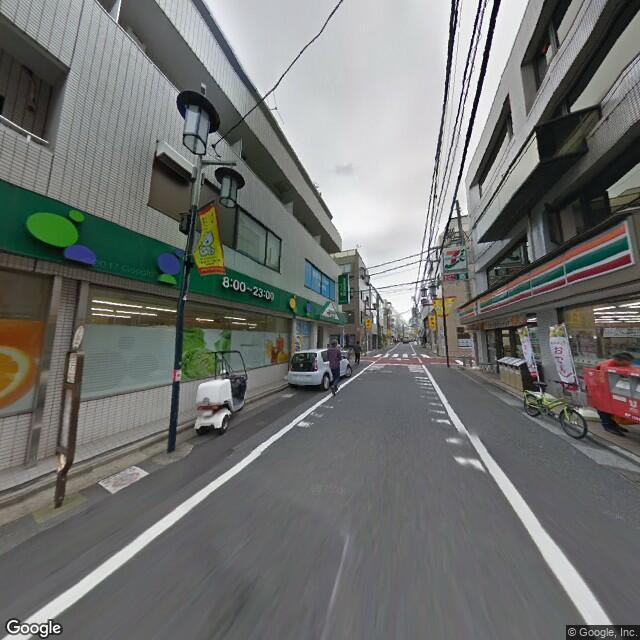7-eleven: (457, 216, 634, 331), (442, 244, 468, 276)
